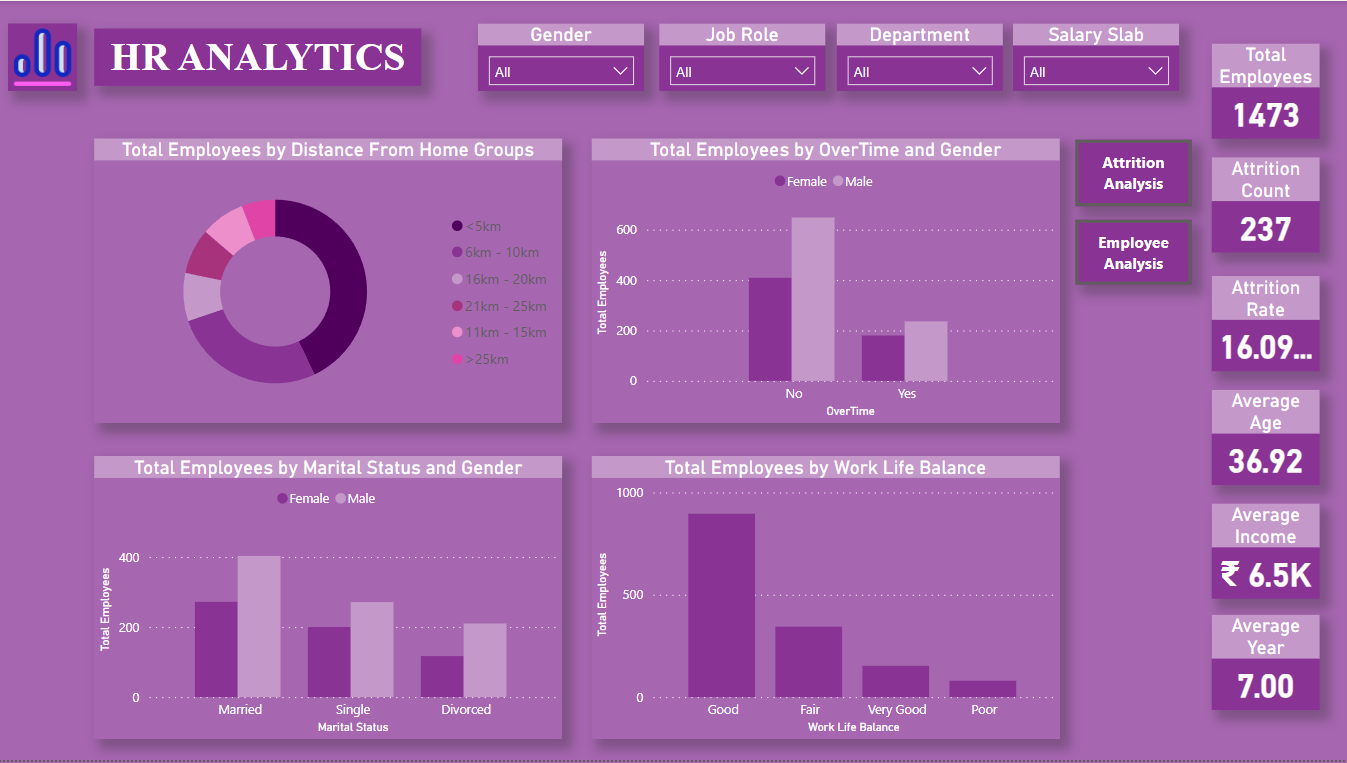

The dashboard page shown, as its layout file describes it:
{"tool":"powerbi","page":{"name":"Page 2","canvas":[1280,720],"ordinal":1},"visuals":[{"type":"card","title":"Total Employees","fields":{"Values":["HR_Analytics.Total Employees"]},"box":[1151.2,40,102.5,90],"z":0},{"type":"card","title":"Attrition Rate","fields":{"Values":["HR_Analytics.Attrition rate"]},"box":[1151.2,261.2,102.5,90],"z":1000},{"type":"card","title":"Average Age","fields":{"Values":["HR_Analytics.Average age"]},"box":[1151.2,368.8,102.5,90],"z":2000},{"type":"card","title":"Average Income","fields":{"Values":["HR_Analytics.Average monthly Income"]},"box":[1151.2,476.2,102.5,90],"z":3000},{"type":"card","title":"Average Year","fields":{"Values":["HR_Analytics.Average Year at Company"]},"box":[1151.2,582.5,102.5,90],"z":4000},{"type":"card","title":"Attrition Count","fields":{"Values":["HR_Analytics.Attrition Count"]},"box":[1151.2,148.8,102.5,90],"z":5000},{"type":"donutChart","fields":{"Y":["HR_Analytics.Total Employees"],"Category":["HR_Analytics.Distance From Home Groups"]},"box":[91.2,130,443.8,270],"z":6000},{"type":"clusteredColumnChart","fields":{"Y":["HR_Analytics.Total Employees"],"Category":["HR_Analytics.OverTime"],"Series":["HR_Analytics.Gender"]},"box":[563.8,130,443.8,270],"z":7000},{"type":"clusteredColumnChart","fields":{"Series":["HR_Analytics.Gender"],"Y":["HR_Analytics.Total Employees"],"Category":["HR_Analytics.Marital Status"]},"box":[91.2,431.2,443.8,268.8],"z":8000},{"type":"clusteredColumnChart","fields":{"Category":["HR_Analytics.Work Life Balance"],"Y":["HR_Analytics.Total Employees"]},"box":[563.8,431.2,443.8,268.8],"z":9000},{"type":"slicer","title":"Gender","fields":{"Values":["HR_Analytics.Gender"]},"box":[455.5,21.4,157.8,64.1],"z":10000},{"type":"slicer","title":"Job Role","fields":{"Values":["HR_Analytics.Job Role"]},"box":[627.5,21.4,157.8,64.1],"z":11000},{"type":"slicer","title":"Department","fields":{"Values":["HR_Analytics.Department"]},"box":[795.9,21.4,157.8,64.1],"z":12000},{"type":"slicer","title":"Salary Slab","fields":{"Values":["HR_Analytics.Salary Slab"]},"box":[963.2,21.4,157.8,64.1],"z":13000},{"type":"textbox","box":[91.3,26.1,310.8,54.6],"z":14000},{"type":"image","box":[9.5,21.4,65.2,64.1],"z":15000},{"type":"actionButton","box":[1022.8,131.1,110.1,63.1],"z":16000},{"type":"actionButton","box":[1022.8,207.8,110.1,61.8],"z":17000}]}

Visuals, with their boxes in screenshot pixels (x1, y1, x2, y2), scaled from the page's 1280x720 canvas onto the 1347x763 screenshot:
"Total Employees" card: Rect(1211, 42, 1319, 138)
"Attrition Rate" card: Rect(1211, 277, 1319, 372)
"Average Age" card: Rect(1211, 391, 1319, 486)
"Average Income" card: Rect(1211, 505, 1319, 600)
"Average Year" card: Rect(1211, 617, 1319, 713)
"Attrition Count" card: Rect(1211, 158, 1319, 253)
donutChart - HR_Analytics.Total Employees x HR_Analytics.Distance From Home Groups: Rect(96, 138, 563, 424)
clusteredColumnChart - HR_Analytics.Total Employees x HR_Analytics.OverTime: Rect(593, 138, 1060, 424)
clusteredColumnChart - HR_Analytics.Gender x HR_Analytics.Total Employees: Rect(96, 457, 563, 742)
clusteredColumnChart - HR_Analytics.Work Life Balance x HR_Analytics.Total Employees: Rect(593, 457, 1060, 742)
"Gender" slicer: Rect(479, 23, 645, 91)
"Job Role" slicer: Rect(660, 23, 826, 91)
"Department" slicer: Rect(838, 23, 1004, 91)
"Salary Slab" slicer: Rect(1014, 23, 1180, 91)
textbox: Rect(96, 28, 423, 86)
image: Rect(10, 23, 79, 91)
actionButton: Rect(1076, 139, 1192, 206)
actionButton: Rect(1076, 220, 1192, 286)
